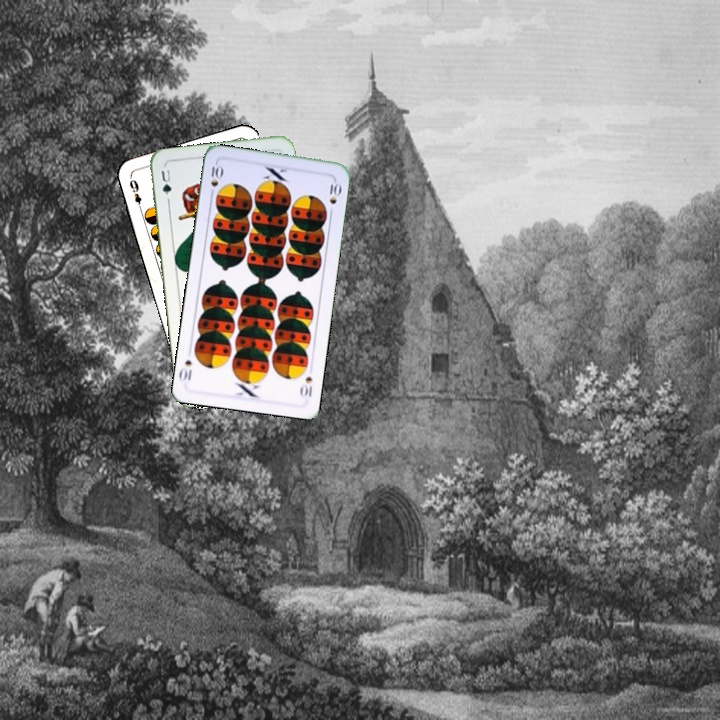E9: (125, 174, 145, 214)
GU: (157, 165, 174, 204)
S10: (206, 159, 225, 200), (296, 372, 315, 400)
